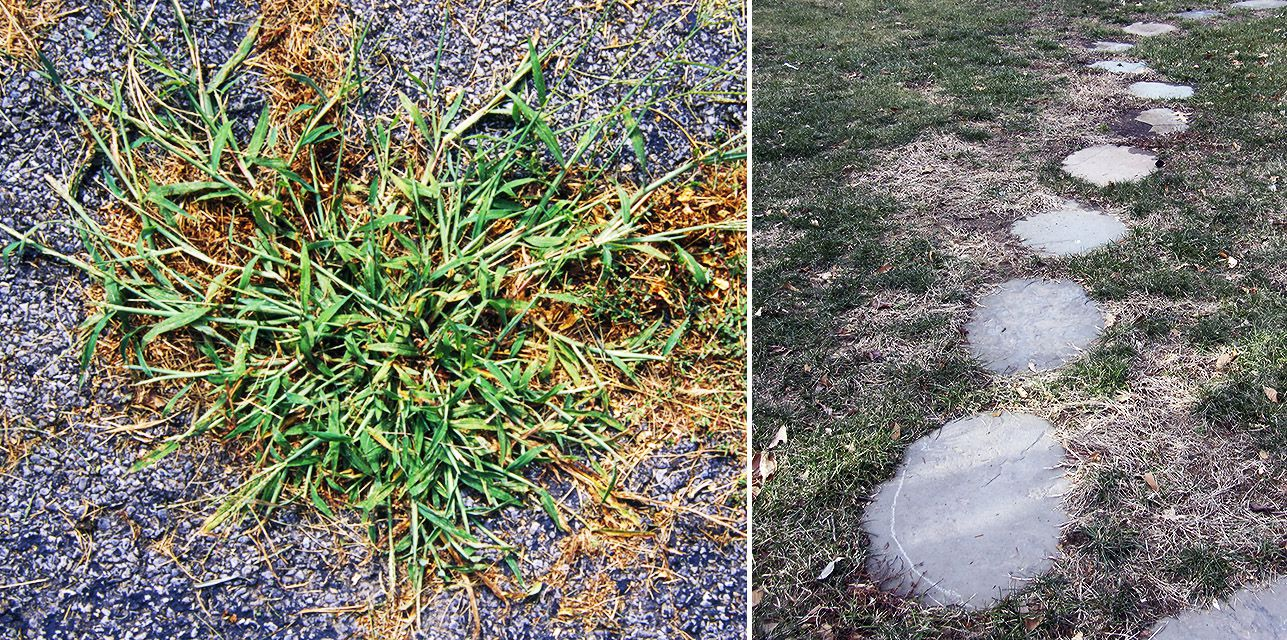crabgrass: (77, 47, 649, 530)
